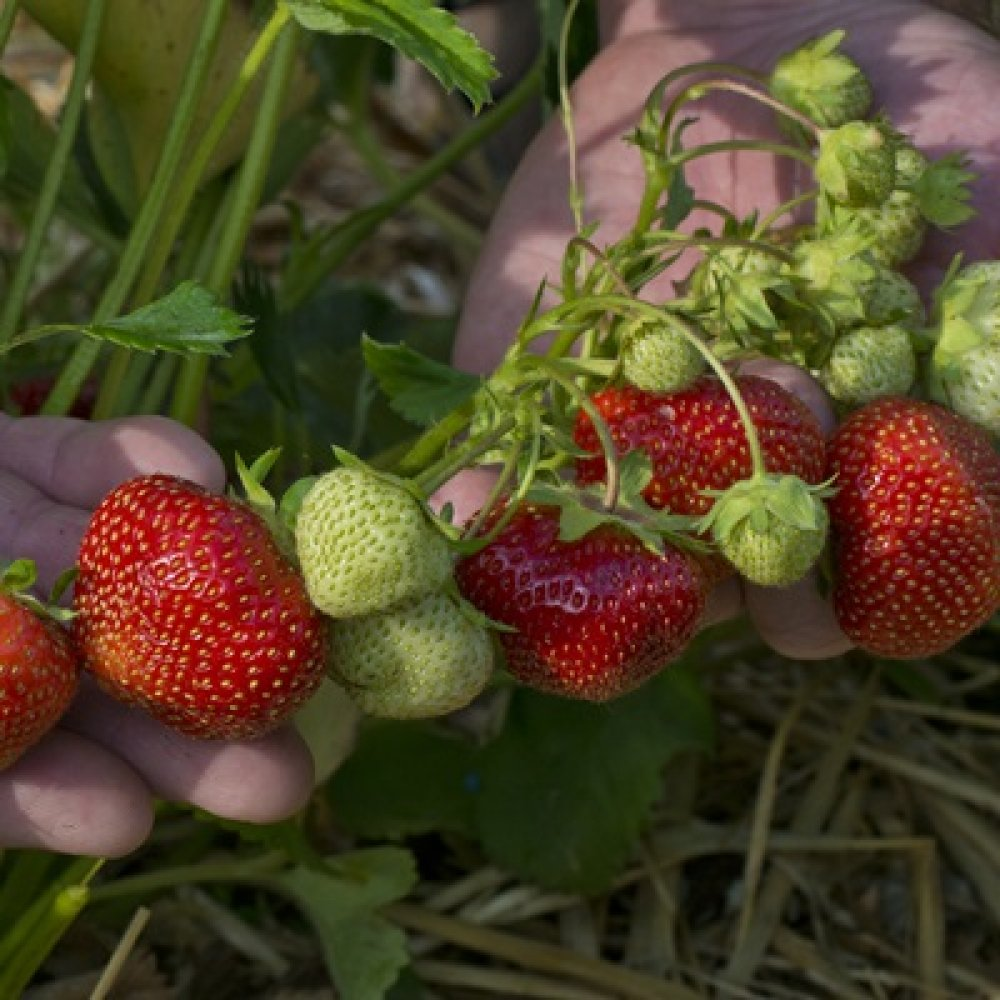ripe_strawberry: (71, 473, 331, 750), (453, 485, 716, 707), (572, 373, 828, 586), (824, 393, 1000, 663), (1, 582, 82, 784)
unripe_strawberry: (326, 584, 502, 730), (295, 464, 455, 621), (812, 140, 936, 269), (926, 257, 1000, 446), (717, 475, 830, 590), (788, 237, 927, 327), (815, 322, 921, 410), (780, 39, 877, 135), (706, 235, 792, 335), (617, 310, 709, 400), (823, 123, 900, 210)
